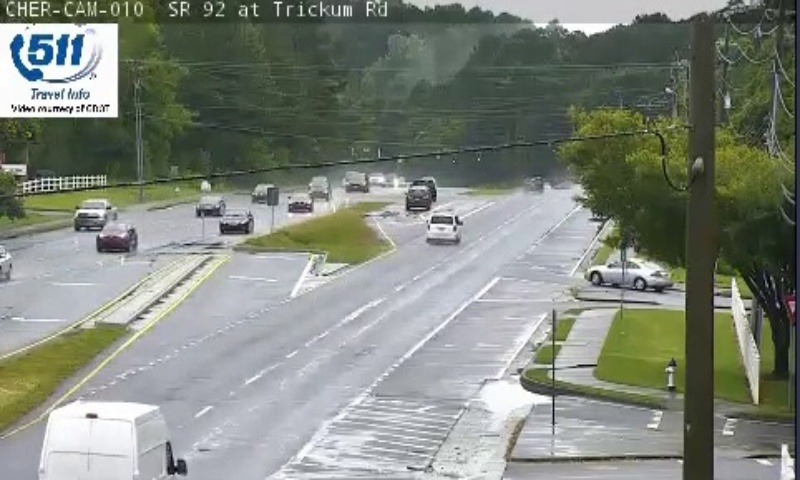car: (426, 211, 461, 241)
van: (39, 400, 180, 480)
